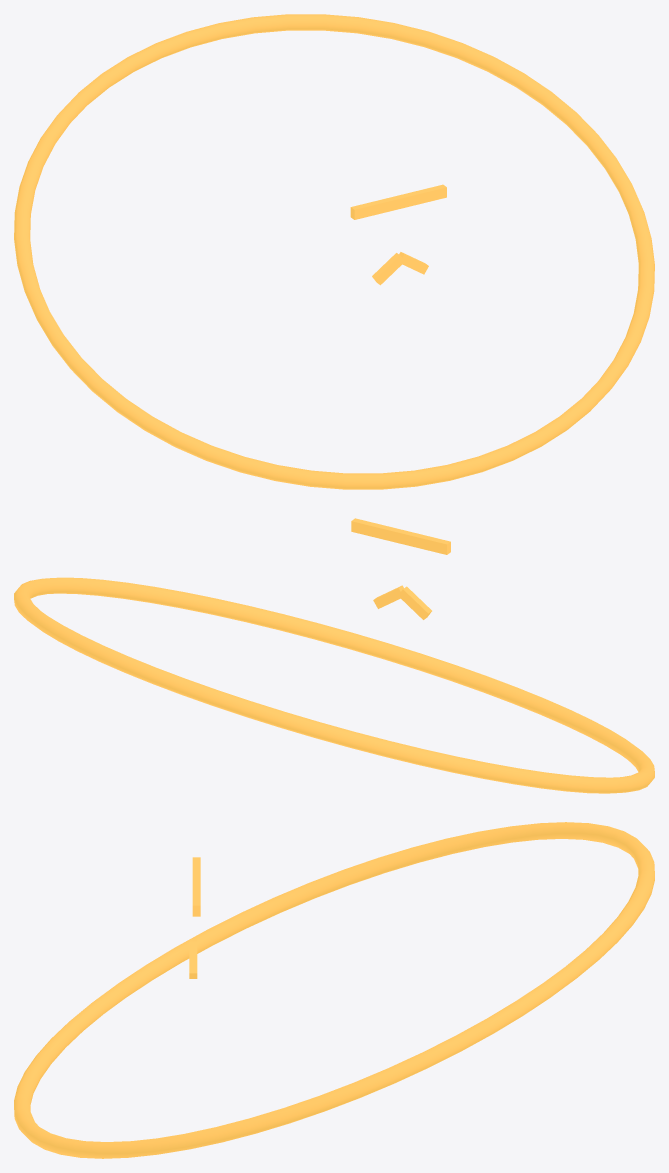
The model's file is avatar-brasa-kit-explorador.glb.
The picture shows the model from 3 angles, top to bottom: view 1: azimuth 30°, elevation 25°; view 2: azimuth 150°, elevation 25°; view 3: azimuth 270°, elevation 25°; orthographic projection. The views are drawn at different scales.
Parts seen in each view (by area): view 1: kit_brasa_explorador_ring, kit_brasa_explorador_visorGlow; view 2: kit_brasa_explorador_ring, kit_brasa_explorador_visorGlow, kit_brasa_explorador_chevronL; view 3: kit_brasa_explorador_ring, kit_brasa_explorador_visorGlow.
Boxes of the visible parts, x1,y1,x2,y2 form: kit_brasa_explorador_ring: [14, 14, 654, 489]; kit_brasa_explorador_visorGlow: [350, 184, 446, 219]; kit_brasa_explorador_ring: [14, 577, 654, 793]; kit_brasa_explorador_visorGlow: [351, 518, 450, 554]; kit_brasa_explorador_chevronL: [399, 586, 431, 619]; kit_brasa_explorador_ring: [14, 822, 654, 1158]; kit_brasa_explorador_visorGlow: [192, 857, 200, 916].
Size of the model in its own units: 1.02 by 0.4063 by 0.9528.
